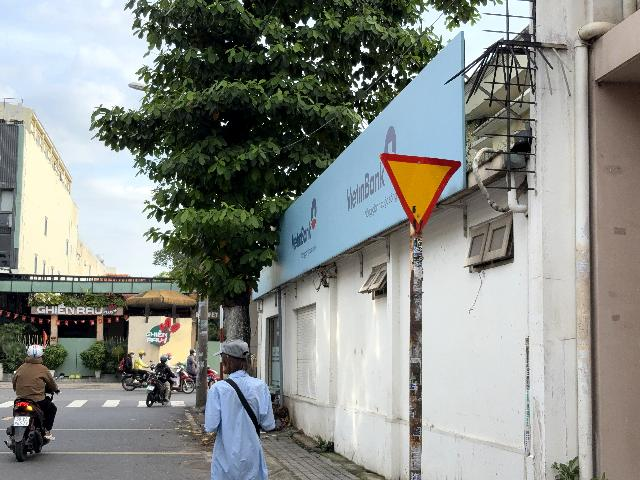giao-nhau-voi-duong-uu-tien: (379, 152, 463, 234)
